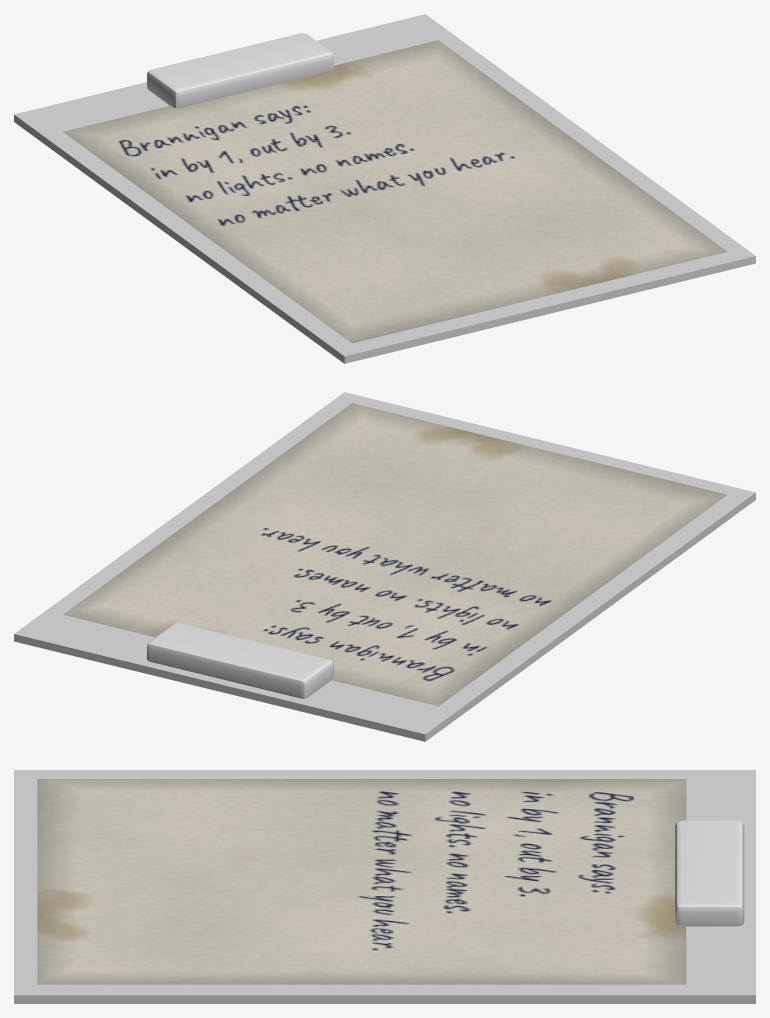
The model's file is SM_Clipboard.fbx.
3 views of the same model, one above another, from view 1: azimuth 30°, elevation 25°; view 2: azimuth 150°, elevation 25°; view 3: azimuth 270°, elevation 25° (orthographic). The views are drawn at different scales.
Parts seen in each view (by area): view 1: SM_Clipboard_1; view 2: SM_Clipboard_1; view 3: SM_Clipboard_1.
Boxes of the visible parts, box(x1,y1,x2,y2) form: SM_Clipboard_1: box(14, 14, 755, 363); SM_Clipboard_1: box(14, 392, 755, 741); SM_Clipboard_1: box(14, 770, 755, 1003).
Bounding box in the file's own units: 23 × 1.4 × 32.
